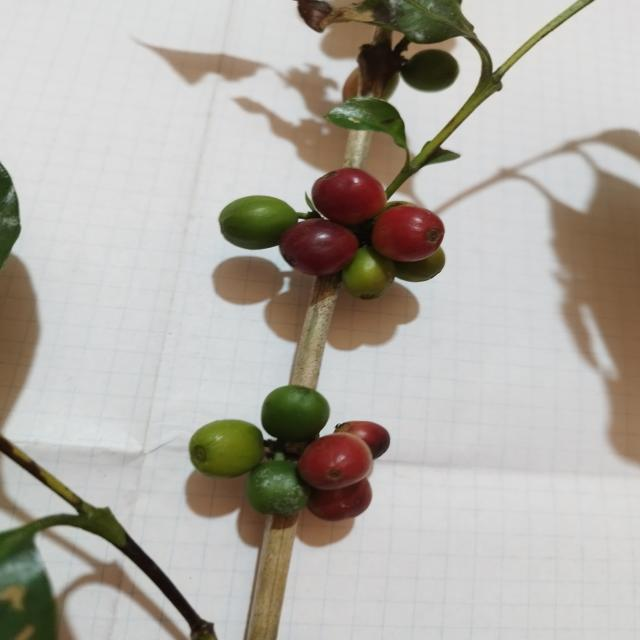Danado: (246, 458, 310, 521)
Sano: (280, 217, 361, 280), (219, 196, 305, 252), (188, 419, 265, 480), (297, 433, 375, 493), (311, 168, 387, 226), (372, 204, 445, 263), (261, 385, 330, 443), (340, 238, 397, 302)
